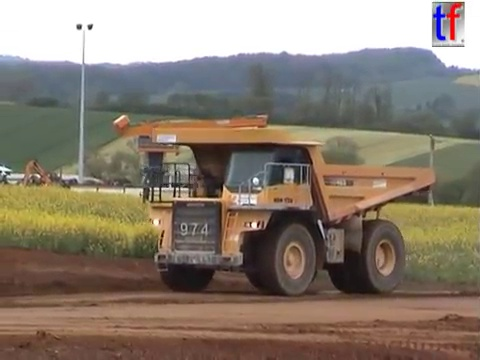crane: (110, 111, 272, 188)
excavator: (18, 158, 72, 193)
truck: (136, 124, 438, 298)
